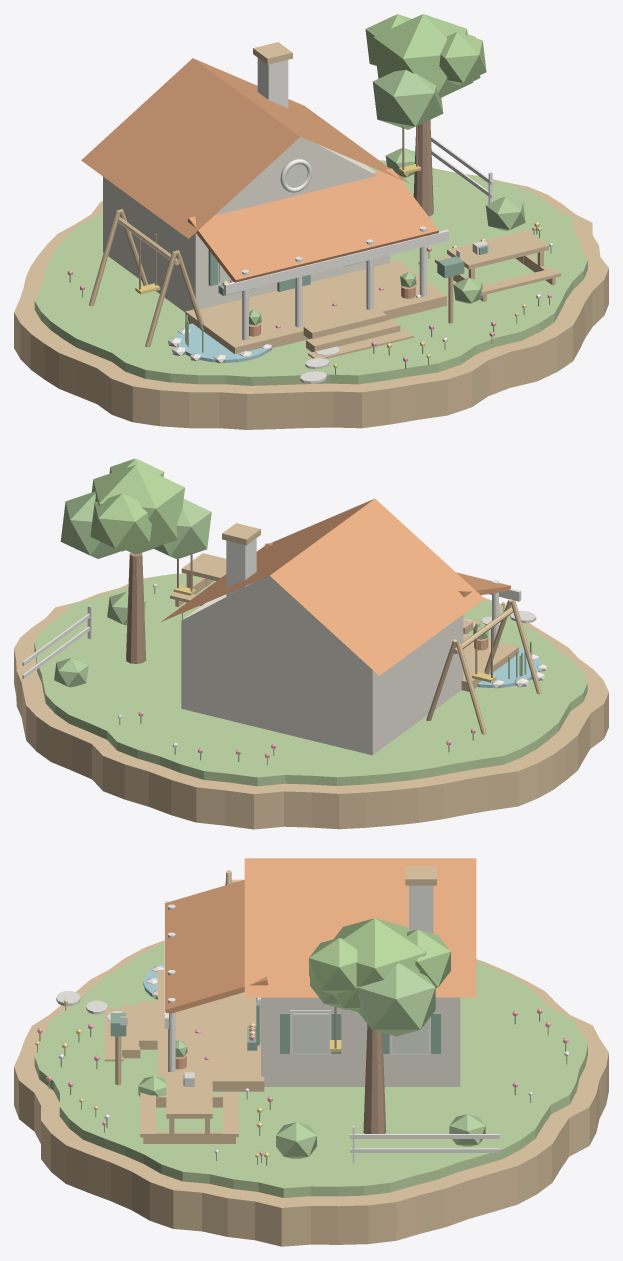
The model's file is cottage_diorama.glb.
3 views of the same model, one above another, from view 1: azimuth 30°, elevation 25°; view 2: azimuth 150°, elevation 25°; view 3: azimuth 270°, elevation 25° (orthographic). The views are drawn at different scales.
Visible parts, largest first — view 1: island_grass, island_soil, roof_main, roof_porch, porch_deck, house_body, tree_canopy_0, gable_front, tree_canopy_1, porch_fascia, picnic_top, tree_canopy_4 (+14 smaller); view 2: island_grass, island_soil, house_body, roof_main, gable_back, tree_canopy_0, tree_canopy_3, tree_canopy_2, tree_trunk, tree_canopy_1, chimney, porch_deck (+8 smaller); view 3: island_grass, island_soil, roof_main, house_body, roof_porch, porch_deck, tree_canopy_2, tree_canopy_0, tree_canopy_4, picnic_top, tree_trunk, tree_canopy_3 (+14 smaller).
Boxes of the visible parts, box(x1,y1,x2,y2) form: island_grass: box(34, 160, 587, 385); island_soil: box(14, 168, 608, 429); roof_main: box(81, 58, 410, 238); roof_porch: box(187, 168, 439, 282); porch_deck: box(185, 259, 446, 354); house_body: box(103, 144, 390, 312); tree_canopy_0: box(373, 14, 473, 97); gable_front: box(214, 137, 376, 215); tree_canopy_1: box(372, 70, 443, 129); porch_fascia: box(224, 229, 449, 294); picnic_top: box(447, 230, 548, 269); tree_canopy_4: box(439, 32, 486, 85); island_grass: box(34, 573, 587, 786); island_soil: box(14, 575, 608, 829); house_body: box(181, 594, 463, 755); roof_main: box(161, 498, 484, 675); gable_back: box(182, 576, 367, 665); tree_canopy_0: box(92, 465, 184, 554); tree_canopy_3: box(90, 493, 151, 551); tree_canopy_2: box(60, 491, 120, 558); tree_trunk: box(126, 552, 146, 663); tree_canopy_1: box(154, 499, 211, 559); chimney: box(226, 538, 256, 596); porch_deck: box(461, 633, 518, 691); island_grass: box(34, 943, 587, 1197); island_soil: box(14, 940, 608, 1246); roof_main: box(244, 858, 476, 997); house_body: box(261, 997, 460, 1086); roof_porch: box(165, 880, 268, 1014); porch_deck: box(157, 969, 264, 1091); tree_canopy_2: box(356, 963, 435, 1036); tree_canopy_0: box(332, 918, 426, 1011); tree_canopy_4: box(309, 938, 357, 994); picnic_top: box(166, 1072, 212, 1118); tree_trunk: box(363, 1024, 386, 1133); tree_canopy_3: box(407, 929, 450, 987).
Bounding box in the file's own units: 9.33 × 4.07 × 8.35.
